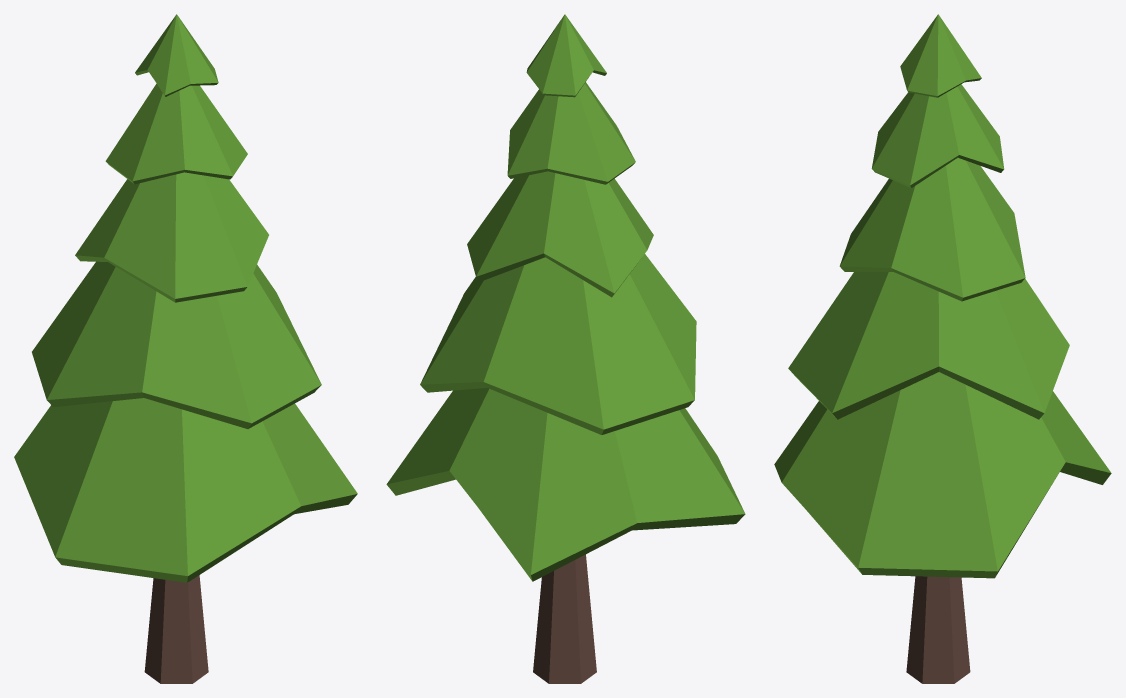
The model's file is SpringTree_01.fbx.
3 views of the same model, side by side, from view 1: azimuth 30°, elevation 25°; view 2: azimuth 150°, elevation 25°; view 3: azimuth 270°, elevation 25° (orthographic).
Visible parts, largest first — view 1: SpringTree_01; view 2: SpringTree_01; view 3: SpringTree_01.
Boxes of the visible parts, <box> form: SpringTree_01: <box>14,14,357,683</box>; SpringTree_01: <box>386,14,745,683</box>; SpringTree_01: <box>774,14,1111,683</box>.
Size of the model in its own units: 485 by 1018 by 473.
